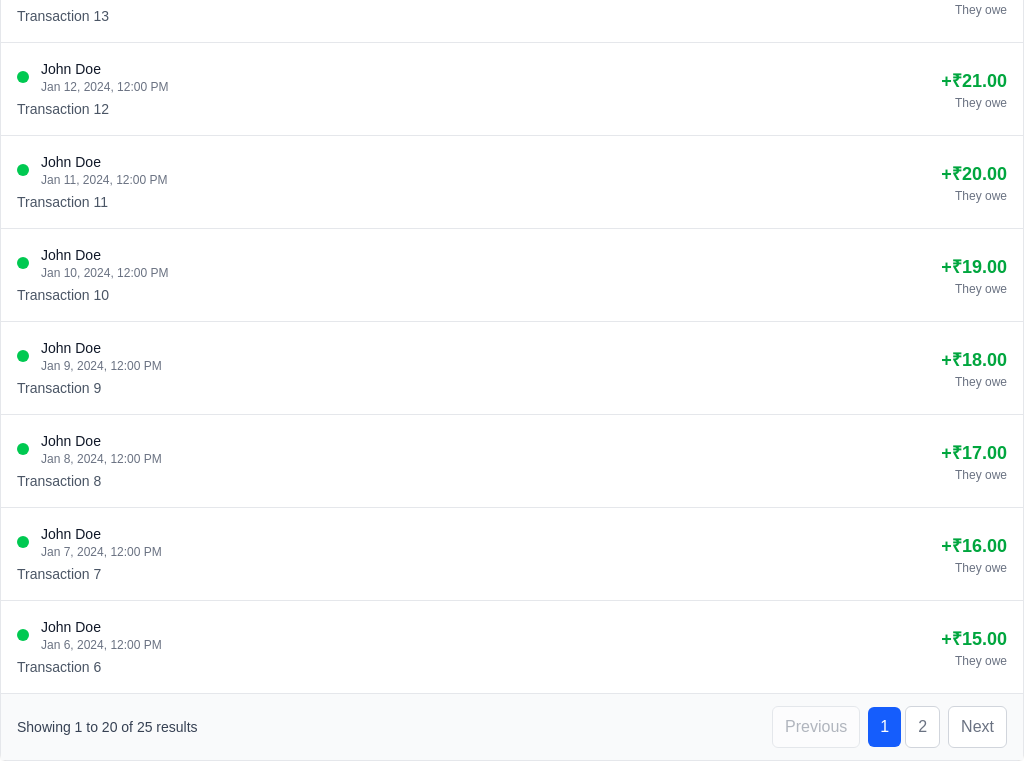
TransactionList › Pagination › navigates between pages
(page scrolled)
Check: the text "Showing 1 to 20 of 25 results" is shown, box [17, 717, 198, 737]
Go to next page
Click the button "Next" at (978, 727), box [948, 706, 1007, 748]
(page scrolled)
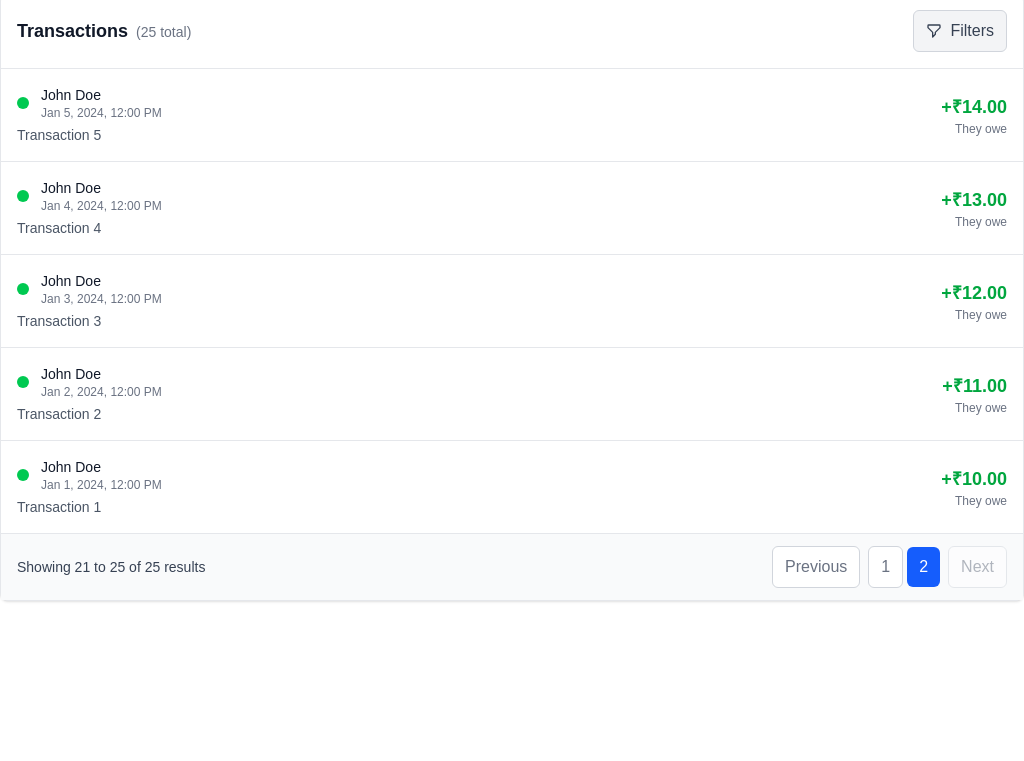
Check: the text "Showing 21 to 25 of 25 results" is shown, box [17, 557, 205, 577]
Go back to previous page
Click the button "Previous" at (816, 567), box [772, 546, 860, 588]
(page scrolled)
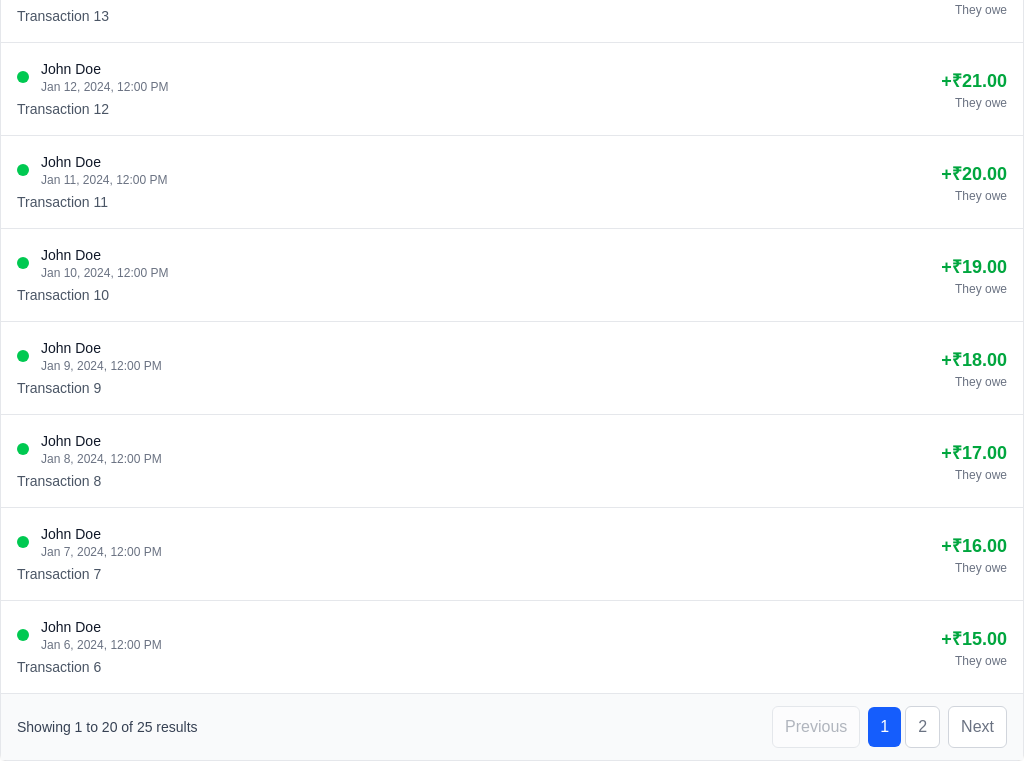
Check: the text "Showing 1 to 20 of 25 results" is shown, box [17, 717, 198, 737]
